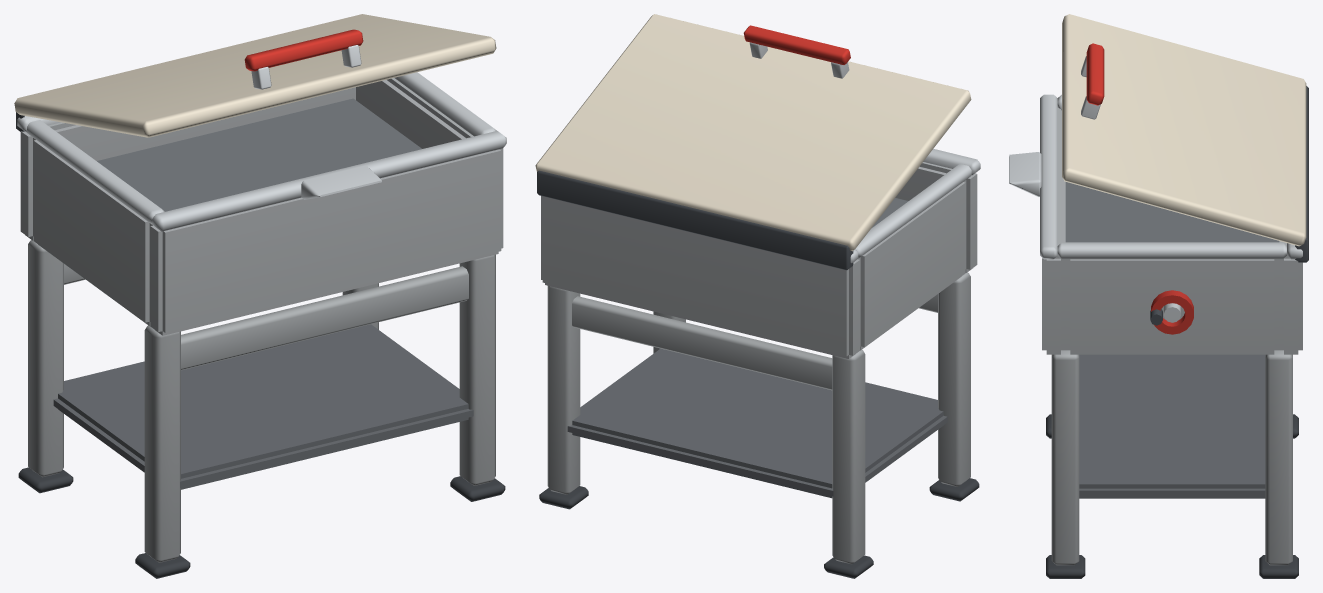
The model's file is SM_Skillet_Tilting_10.glb.
3 views of the same model, side by side, from view 1: azimuth 30°, elevation 25°; view 2: azimuth 150°, elevation 25°; view 3: azimuth 270°, elevation 25° (orthographic). The views are drawn at different scales.
Parts seen in each view (by area): view 1: SM_Skillet_Tilting_10; view 2: SM_Skillet_Tilting_10; view 3: SM_Skillet_Tilting_10.
Boxes of the visible parts, x1,y1,x2,y2 form: SM_Skillet_Tilting_10: (14,14,506,578); SM_Skillet_Tilting_10: (535,14,980,578); SM_Skillet_Tilting_10: (1009,14,1308,578).
Bounding box in the file's own units: 1.01 × 1.21 × 0.7578.
Materials: 1 (1 with a texture image).
